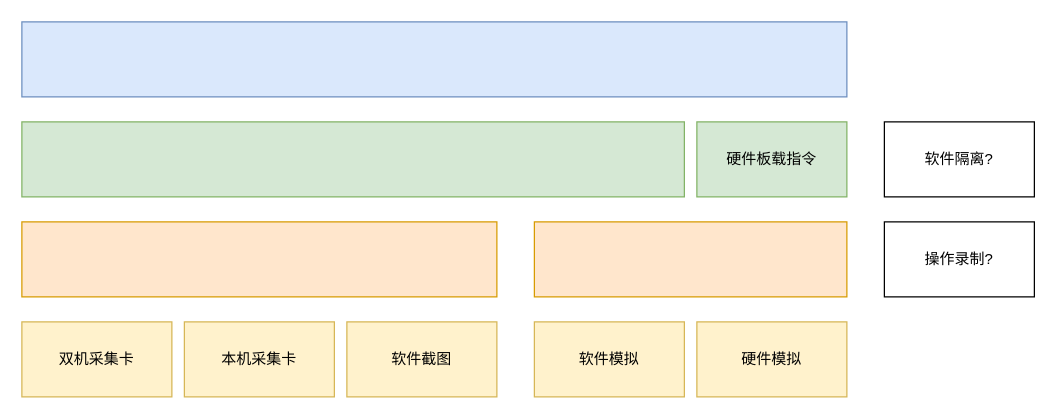
Some shapes in this 1056 by 419 pixel diagram are drawn without their labels. Here are the shapes that lost their labels. From the top down, the box of each, then its label:
(21, 21, 847, 97): GUI
(21, 121, 684, 197): 软件图色逻辑
(21, 221, 497, 297): 图像采集
(533, 221, 847, 297): 键鼠执行
